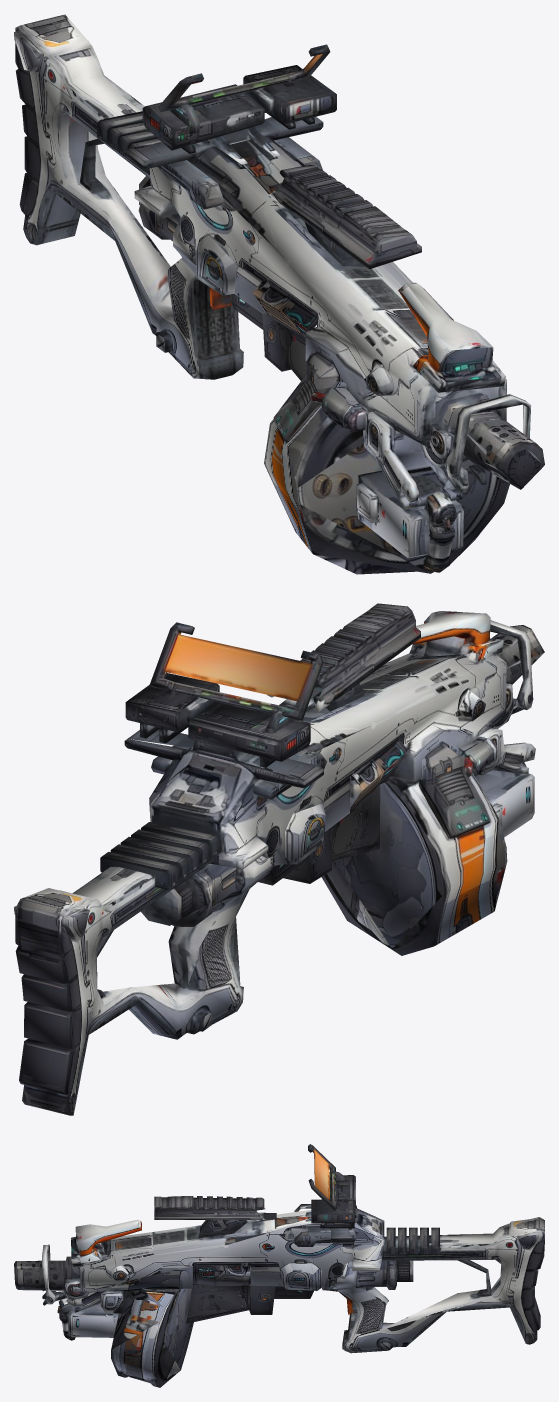
3 views of the same model, one above another, from view 1: azimuth 30°, elevation 25°; view 2: azimuth 150°, elevation 25°; view 3: azimuth 270°, elevation 25° (orthographic). The views are drawn at different scales.
Visible parts, largest first — view 1: gun; view 2: gun; view 3: gun.
Part boxes in pixels (left/top/right/bottom): gun: left=14, top=14, right=544, bottom=574; gun: left=14, top=603, right=544, bottom=1115; gun: left=14, top=1144, right=544, bottom=1387.
Bounding box in the file's own units: 0.6233 × 1.18 × 2.59.
1 material, 1 textured.
